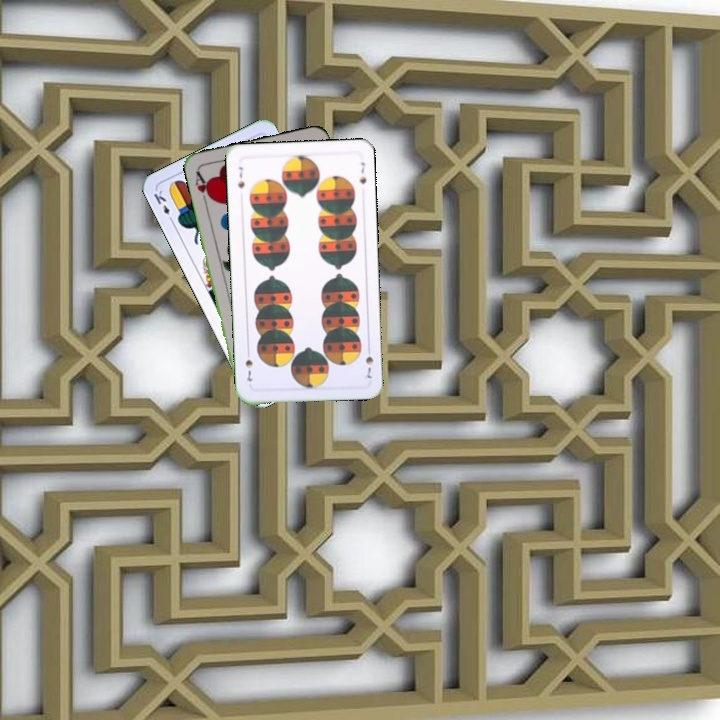EK: (149, 186, 176, 225)
HA: (191, 167, 214, 207)
S7: (361, 342, 376, 381), (234, 163, 247, 191)
